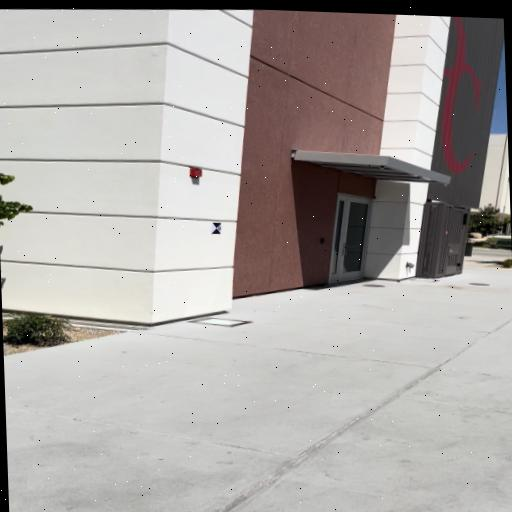target6: (211, 222, 222, 234)
